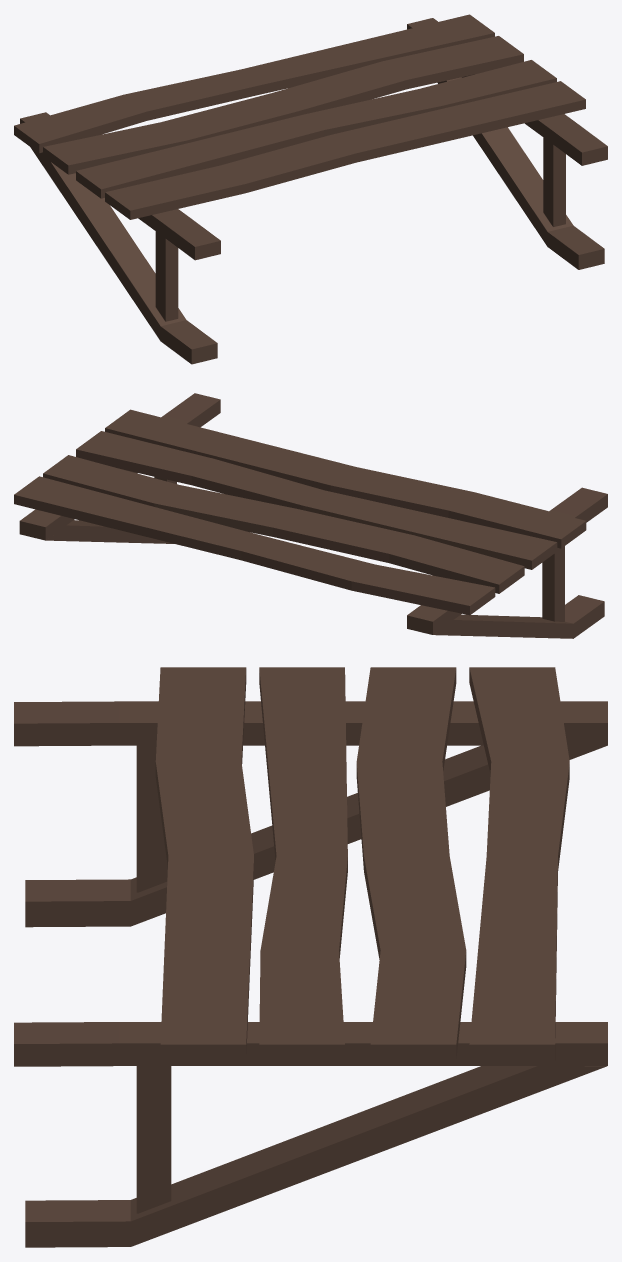
File: Platformes.fbx
The picture shows the model from 3 angles, top to bottom: view 1: azimuth 30°, elevation 25°; view 2: azimuth 150°, elevation 25°; view 3: azimuth 270°, elevation 25°; orthographic projection. The views are drawn at different scales.
Parts seen in each view (by area): view 1: Platforme_Planche; view 2: Platforme_Planche; view 3: Platforme_Planche.
Part boxes in pixels (x1,y1,x2,y2): Platforme_Planche: [14, 14, 607, 364]; Platforme_Planche: [14, 393, 607, 638]; Platforme_Planche: [14, 667, 607, 1247].
Size of the model in its own units: 275 by 74.82 by 183.
